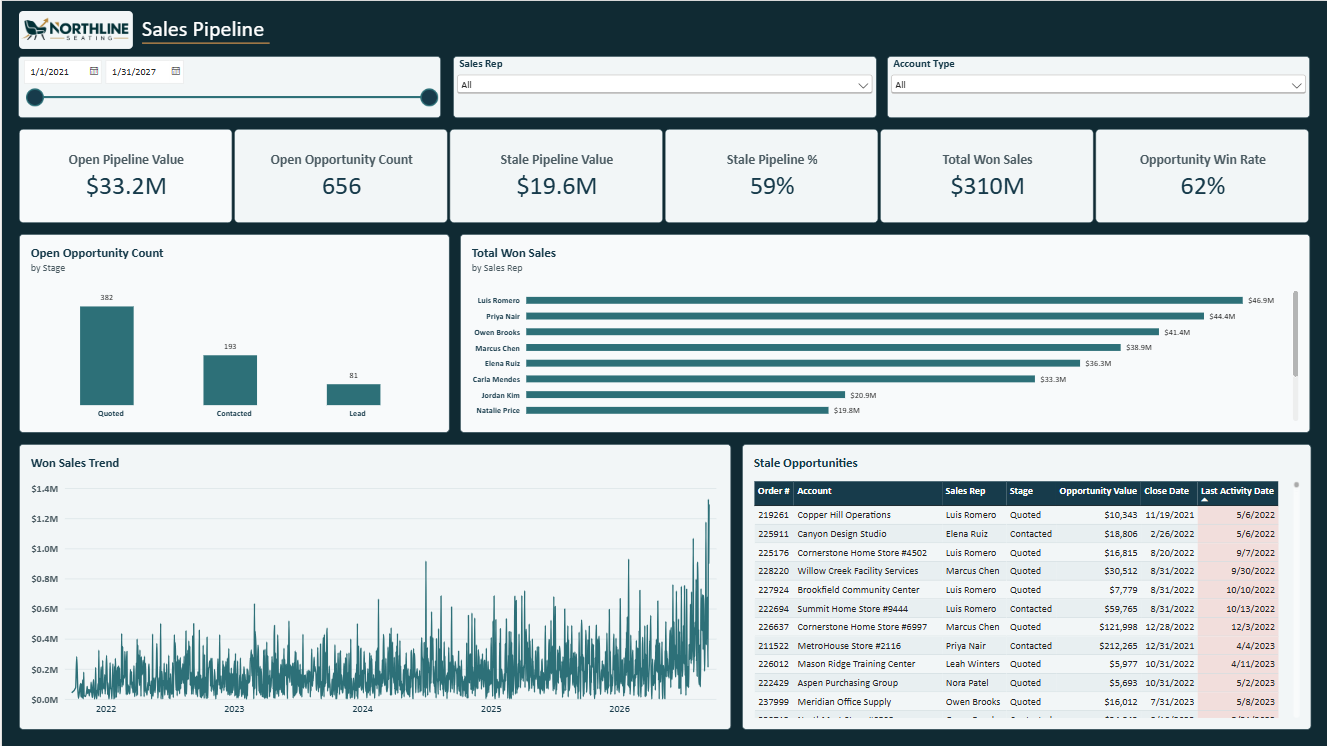

The dashboard page shown, as its layout file describes it:
{"tool":"powerbi","page":{"name":"Sales Pipeline","canvas":[1920,1080],"ordinal":1},"visuals":[{"type":"shape","box":[202.3,55,185,12],"z":0,"group":"g1"},{"type":"cardVisual","fields":{"Data":["Measures_.Open Pipeline Value","Measures_.Open Opportunity Count","Measures_.Stale Pipeline Value","Measures_.Stale Pipeline %","Measures_.Total Won Sales","Measures_.Opportunity Win Rate"]},"box":[24,186,1872,136],"z":0},{"type":"textbox","box":[202.3,20,350,40],"z":1000,"group":"g1"},{"type":"clusteredColumnChart","fields":{"Category":["Opportunities.Stage"],"Y":["Measures_.Open Opportunity Count"]},"box":[24,338,624,288],"z":1000},{"type":"image","box":[24,14,165,55],"z":2000,"group":"g1"},{"type":"clusteredBarChart","fields":{"Category":["Opportunities.Sales Rep"],"Y":["Measures_.Total Won Sales"]},"box":[664,338,1232,288],"z":2000},{"type":"lineChart","title":"Won Sales Trend","fields":{"Category":["Date.Date"],"Y":["Measures_.Total Won Sales"]},"box":[23.9,642.4,1032,413.6],"z":3000},{"type":"tableEx","title":"Stale Opportunities","fields":{"Values":["Opportunities.Order Number","Opportunities.Account Name","Opportunities.Sales Rep","Opportunities.Stage","Sum(Opportunities.Value)","Opportunities.Close Date","Opportunities.Last Activity Date"]},"box":[1072,642.4,824.6,413.6],"z":4000},{"type":"slicer","fields":{"Values":["Date.Date"]},"box":[23.4,79.5,613,90.4],"z":5000},{"type":"slicer","fields":{"Values":["Opportunities.Sales Rep"]},"box":[653,80,614,90],"z":6000},{"type":"slicer","fields":{"Values":["Opportunities.Account Type"]},"box":[1283,80,613,90],"z":7000},{"type":"group","id":"g1","title":"Group 1","box":[24,14,528.3,55],"z":9003}]}

Visuals, with their boxes in screenshot pixels (x1, y1, x2, y2), scaled from the page's 1920x1080 canvas onto the 1327x746 screenshot:
shape: <bbox>140, 38, 268, 46</bbox>
cardVisual - Measures_.Open Pipeline Value x Measures_.Open Opportunity Count: <bbox>17, 128, 1310, 222</bbox>
textbox: <bbox>140, 14, 382, 41</bbox>
clusteredColumnChart - Opportunities.Stage x Measures_.Open Opportunity Count: <bbox>17, 233, 448, 432</bbox>
image: <bbox>17, 10, 131, 48</bbox>
clusteredBarChart - Opportunities.Sales Rep x Measures_.Total Won Sales: <bbox>459, 233, 1310, 432</bbox>
"Won Sales Trend" lineChart: <bbox>17, 444, 730, 729</bbox>
"Stale Opportunities" tableEx: <bbox>741, 444, 1311, 729</bbox>
slicer - Date.Date: <bbox>16, 55, 440, 117</bbox>
slicer - Opportunities.Sales Rep: <bbox>451, 55, 876, 117</bbox>
slicer - Opportunities.Account Type: <bbox>887, 55, 1310, 117</bbox>
"Group 1" group: <bbox>17, 10, 382, 48</bbox>
